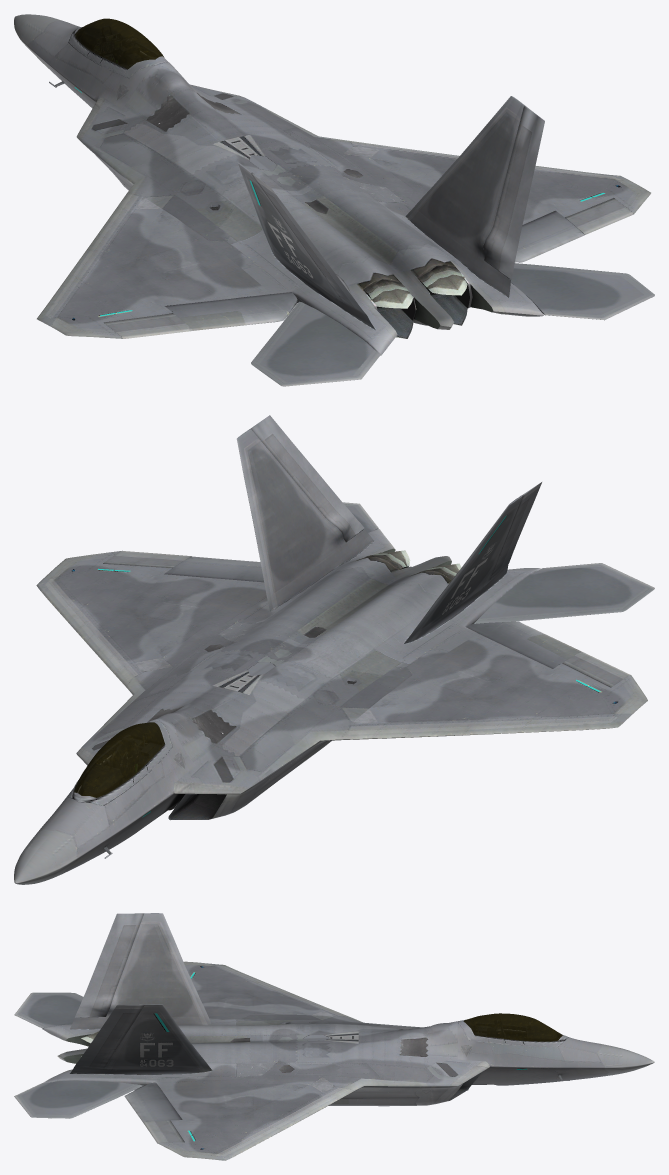
3 views of the same model, one above another, from view 1: azimuth 30°, elevation 25°; view 2: azimuth 150°, elevation 25°; view 3: azimuth 270°, elevation 25° (orthographic). The views are drawn at different scales.
Parts seen in each view (by area): view 1: bodyshell_4, elevator_l_9, wing_r.001_38, wing_r_6, rudder.001_37, wingflap_l_27, chassis_8, window_lf_35, break_extra_1_26, wingflap_r_30, rudder_18, aileron_l_25 (+4 smaller); view 2: bodyshell_4, wing_r.001_38, wing_r_6, elevator_l_9, break_extra_1_26, chassis_8, window_lf_35, rudder.001_37, break_extra_6_28, wingflap_l_27, door_dside_f_14, wingflap_r_30 (+3 smaller); view 3: bodyshell_4, wing_r_6, elevator_l_9, wing_r.001_38, rudder_18, window_lf_35, break_extra_6_28, rudder.001_37, wingflap_r_30, chassis_8, door_dside_f_14, break_extra_1_26 (+3 smaller).
Boxes of the visible parts, x1,y1,x2,y2 form: bodyshell_4: (14, 14, 604, 355); elevator_l_9: (251, 263, 654, 386); wing_r.001_38: (50, 196, 270, 338); wing_r_6: (352, 145, 650, 224); rudder.001_37: (483, 106, 544, 279); wingflap_l_27: (165, 292, 298, 330); chassis_8: (68, 26, 276, 212); window_lf_35: (75, 18, 164, 68); break_extra_1_26: (37, 191, 141, 325); wingflap_r_30: (515, 211, 584, 262); rudder_18: (251, 172, 365, 314); aileron_l_25: (104, 313, 192, 338); bodyshell_4: (14, 429, 600, 884); wing_r.001_38: (350, 634, 647, 724); wing_r_6: (50, 550, 264, 673); elevator_l_9: (343, 502, 654, 623); break_extra_1_26: (338, 713, 631, 740); chassis_8: (78, 662, 361, 810); window_lf_35: (74, 722, 164, 797); rudder.001_37: (250, 415, 364, 541); break_extra_6_28: (36, 572, 141, 687); wingflap_l_27: (466, 621, 581, 668); door_dside_f_14: (68, 721, 172, 805); wingflap_r_30: (164, 556, 263, 582); bodyshell_4: (42, 913, 654, 1141); wing_r_6: (158, 1084, 336, 1158); elevator_l_9: (14, 992, 143, 1118); wing_r.001_38: (183, 961, 336, 1016); rudder_18: (74, 913, 144, 1017); window_lf_35: (463, 1013, 562, 1041); break_extra_6_28: (206, 1086, 355, 1160); rudder.001_37: (75, 1004, 144, 1067); wingflap_r_30: (124, 1083, 182, 1122); chassis_8: (279, 1019, 557, 1040); door_dside_f_14: (458, 1019, 568, 1047); break_extra_1_26: (207, 963, 351, 1017).
Size of what is drawn, in the model's own units: 13.66 by 4.23 by 18.91.
27 materials, 26 textured.
